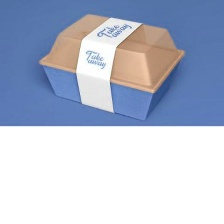plastic_box: (33, 7, 191, 126)
